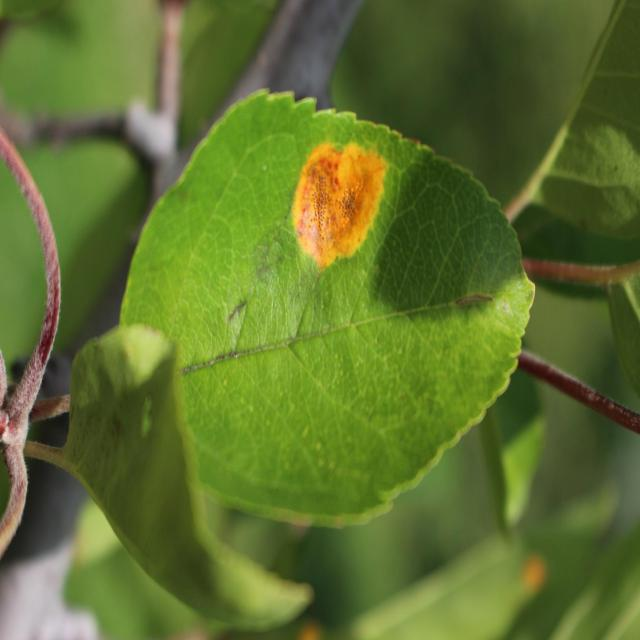Rust: (293, 132, 395, 270), (518, 549, 550, 607), (283, 613, 329, 640)
